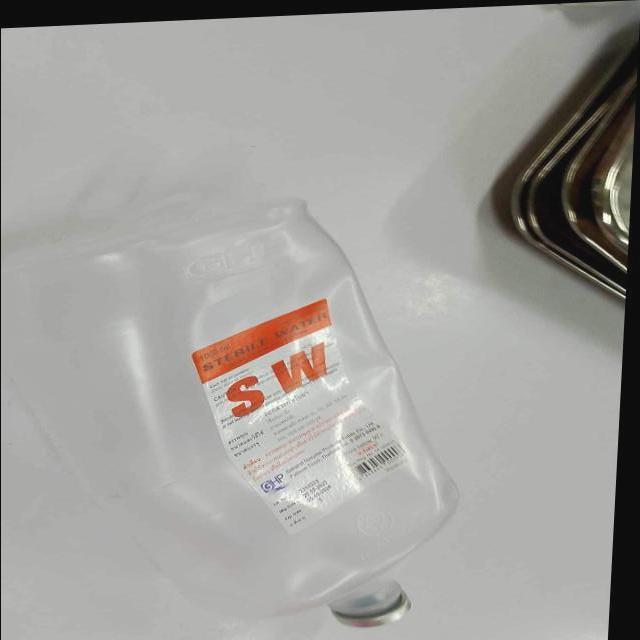General: (3, 194, 462, 632), (189, 296, 409, 536)
Sharps: (507, 42, 639, 300)
